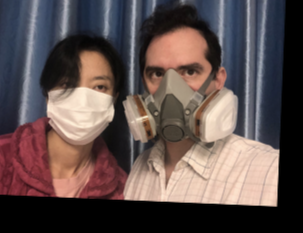with_mask: (141, 58, 214, 145), (45, 71, 115, 145)
